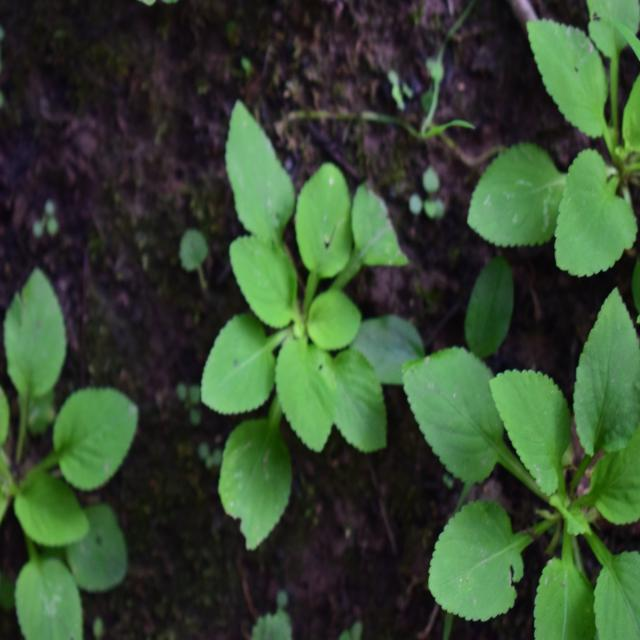Viola: (202, 117, 426, 556), (412, 254, 636, 635)
